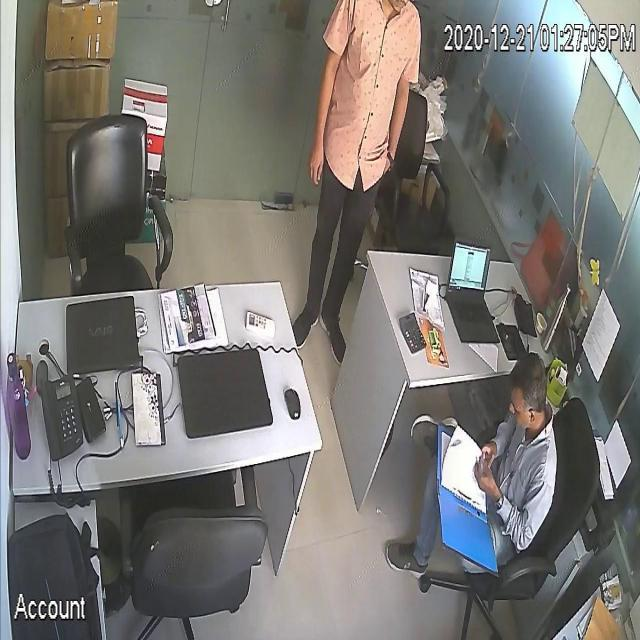chair: (117, 475, 268, 640), (60, 111, 176, 293), (400, 84, 454, 255), (550, 389, 602, 563)
laptop: (176, 347, 274, 441), (449, 226, 501, 354), (65, 294, 143, 376)
person: (286, 0, 422, 366), (395, 348, 557, 600)
